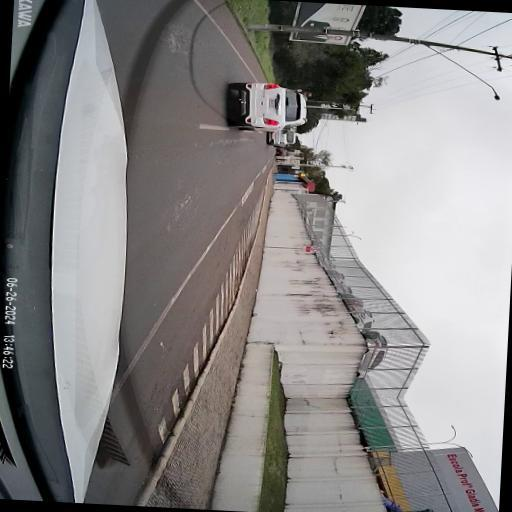R-6b: (310, 248, 318, 252)
